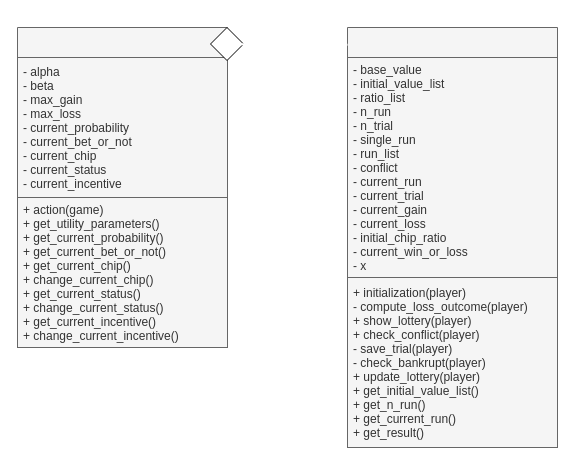
The diagram is 575 pixels wide and 465 high, and some of its shapes have lost their labels. Each missing label, with the box of its shape:
Game: (346, 26, 558, 448)
Player: (16, 26, 228, 348)
